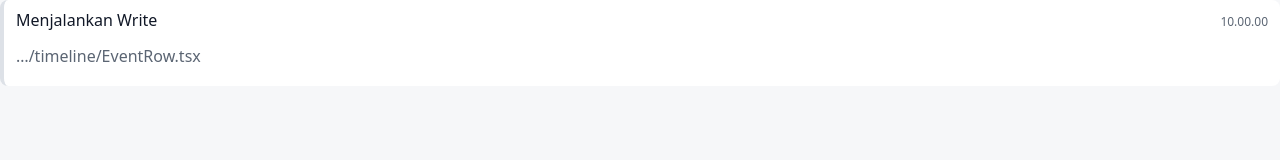
Test: EventRow: ketuk untuk jalur lengkap › jalur ringkas tampil dulu; mengetuk baris menampilkan jalur lengkap; mengetuk lagi meringkas
Click the button "…/timeline/EventRow.tsx". click: (108, 56)
box: [16, 34, 1268, 78]
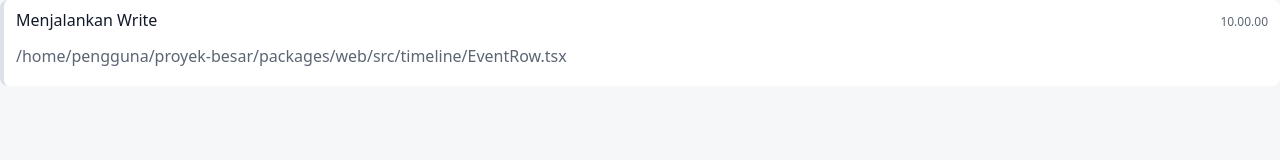
Click the button. click: (642, 56)
box: [16, 34, 1268, 78]
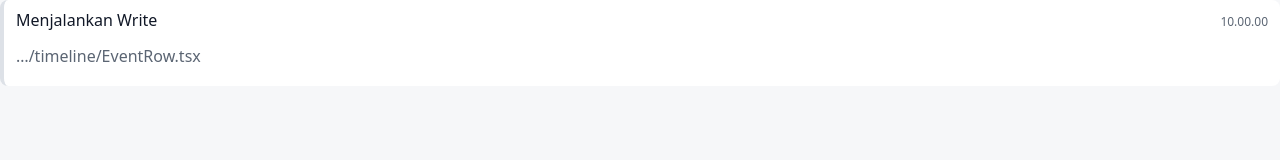
Now the button reads "…/timeline/EventRow.tsx", box [16, 34, 1268, 78]
